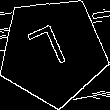L_SE: (29, 22, 77, 80)
